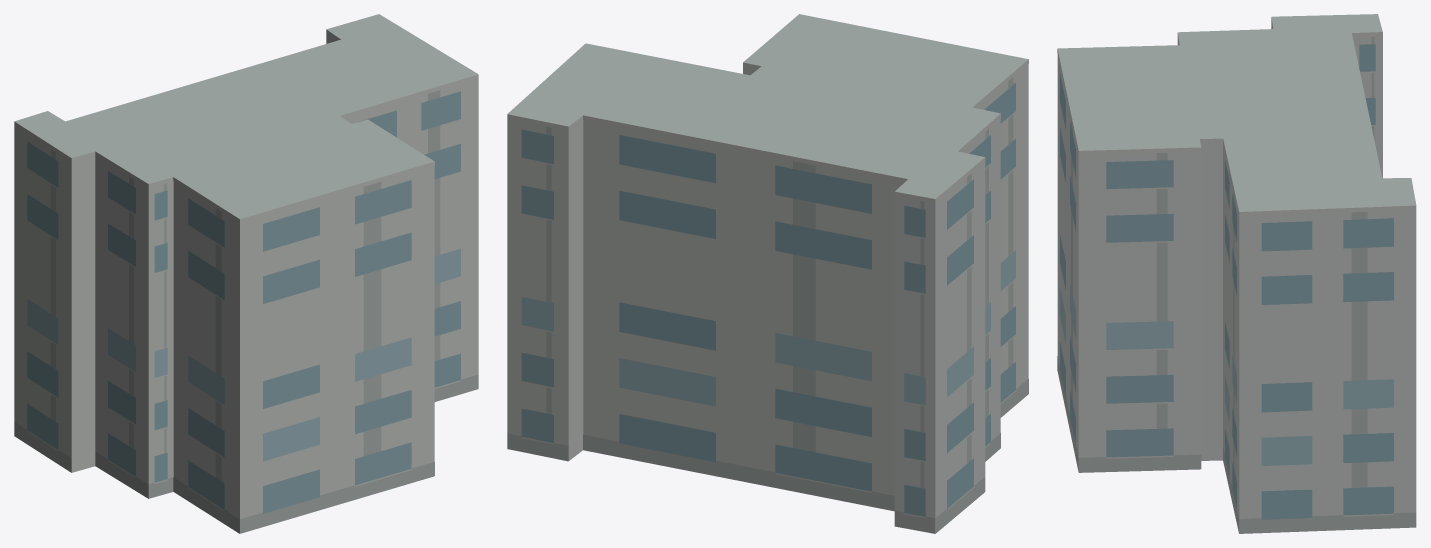
Rendered from survey-upis-32905817.glb.
3 renders of one model, left to right at view 1: azimuth 30°, elevation 25°; view 2: azimuth 150°, elevation 25°; view 3: azimuth 270°, elevation 25°, orthographic. The views are drawn at different scales.
Visible parts, largest first — view 1: survey-upis-32905817.tmp; view 2: survey-upis-32905817.tmp; view 3: survey-upis-32905817.tmp.
Boxes of the visible parts, x1,y1,x2,y2 form: survey-upis-32905817.tmp: (14, 14, 478, 533); survey-upis-32905817.tmp: (507, 14, 1028, 533); survey-upis-32905817.tmp: (1057, 14, 1416, 533).
Size of the model in its own units: 23.35 by 17.7 by 17.9.
